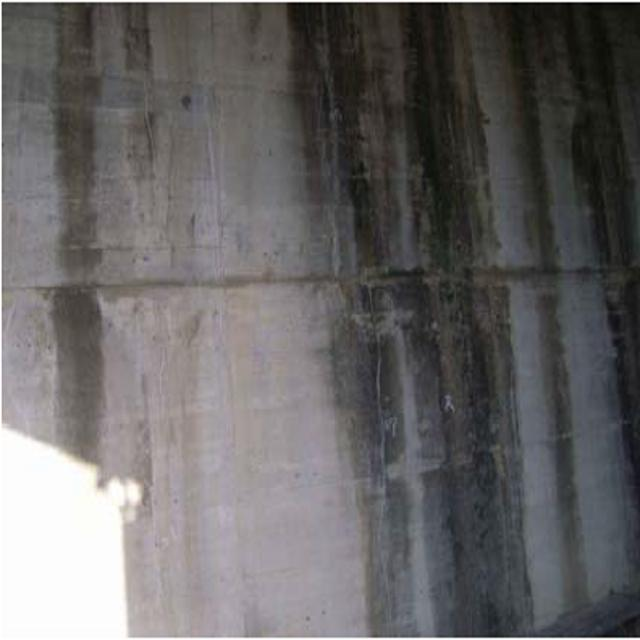leakage: (286, 11, 624, 626), (56, 7, 130, 466)
